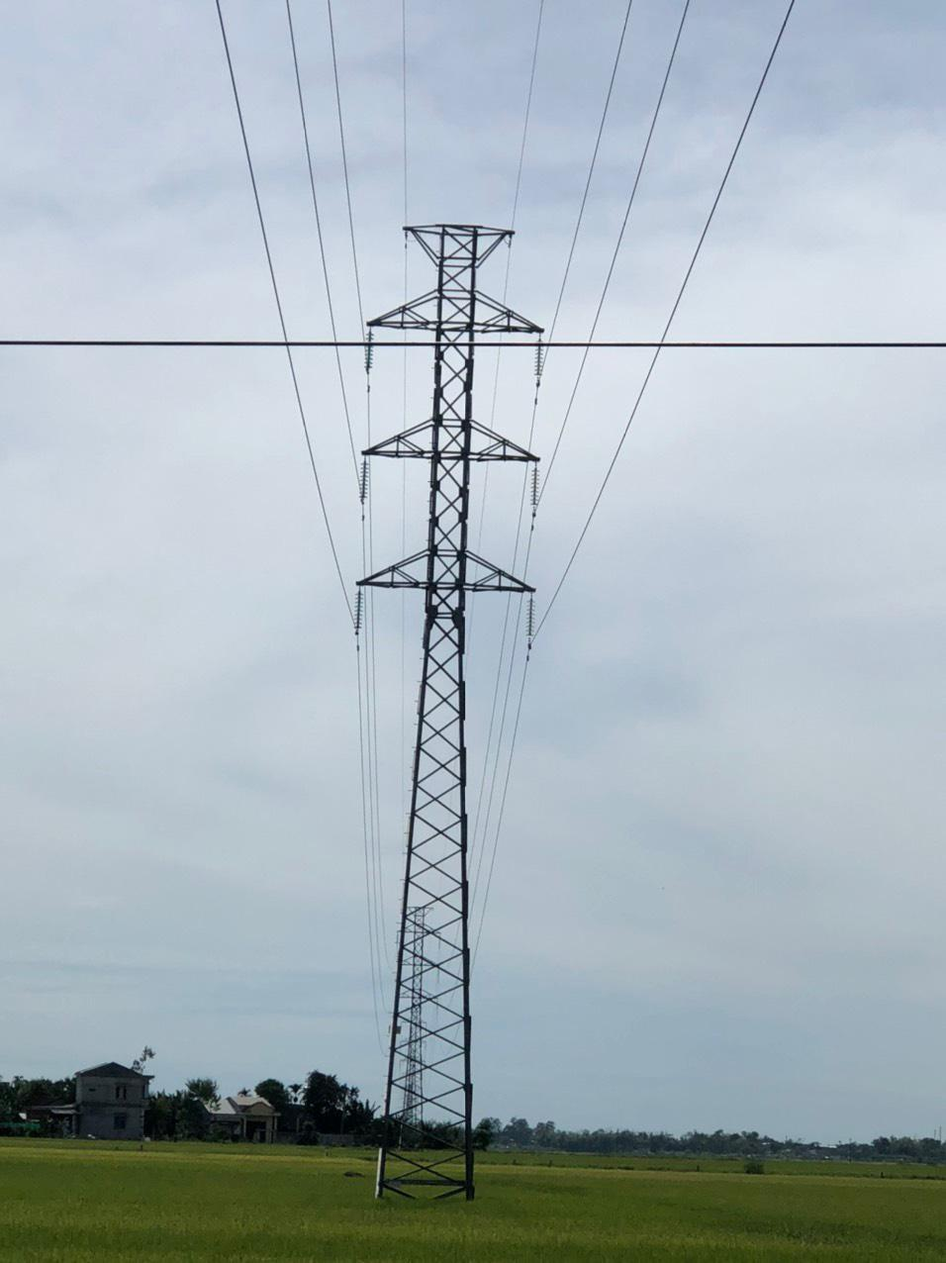power_tower: (370, 208, 499, 1192)
